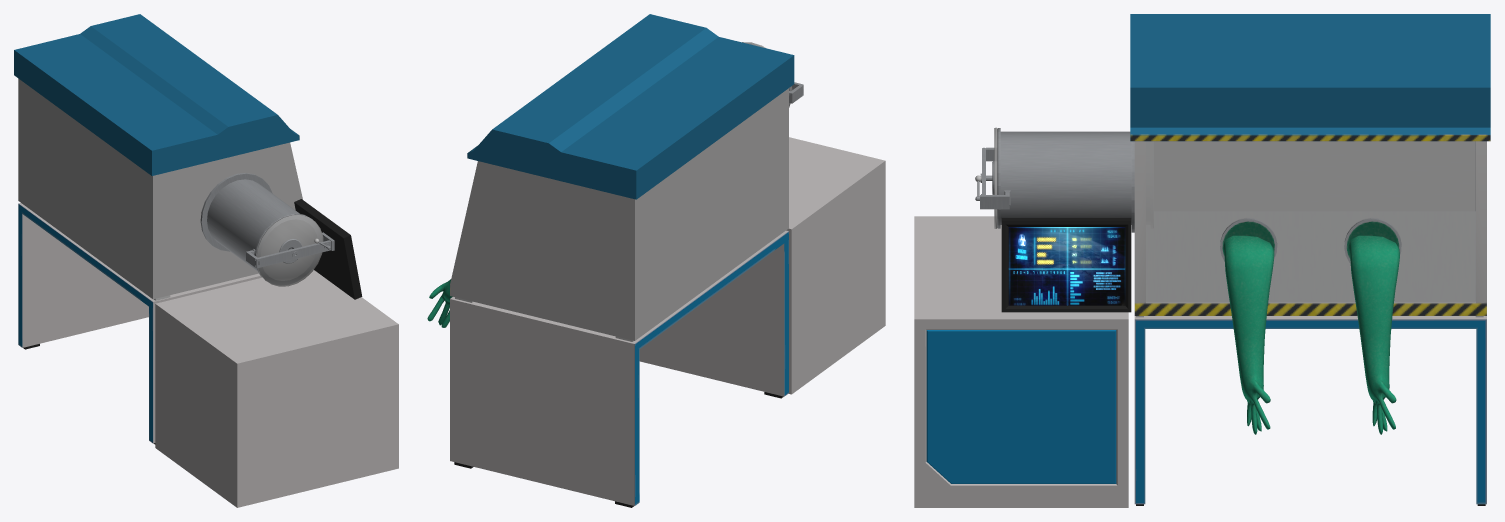
File: HazardRes.fbx
The picture shows the model from 3 angles, left to right: view 1: azimuth 30°, elevation 25°; view 2: azimuth 150°, elevation 25°; view 3: azimuth 270°, elevation 25°; orthographic projection. The views are drawn at different scales.
Visible parts, largest first — view 1: HazardRes1, HazardResGlass; view 2: HazardRes1; view 3: HazardRes1, HazardResGlass.
Part boxes in pixels (bbox=[...]): HazardRes1: bbox=[14, 14, 398, 507]; HazardResGlass: bbox=[256, 214, 323, 286]; HazardRes1: bbox=[427, 14, 885, 507]; HazardRes1: bbox=[914, 14, 1490, 507]; HazardResGlass: bbox=[994, 127, 1475, 302].
Bounding box in the file's own units: 159 × 210 × 277.
